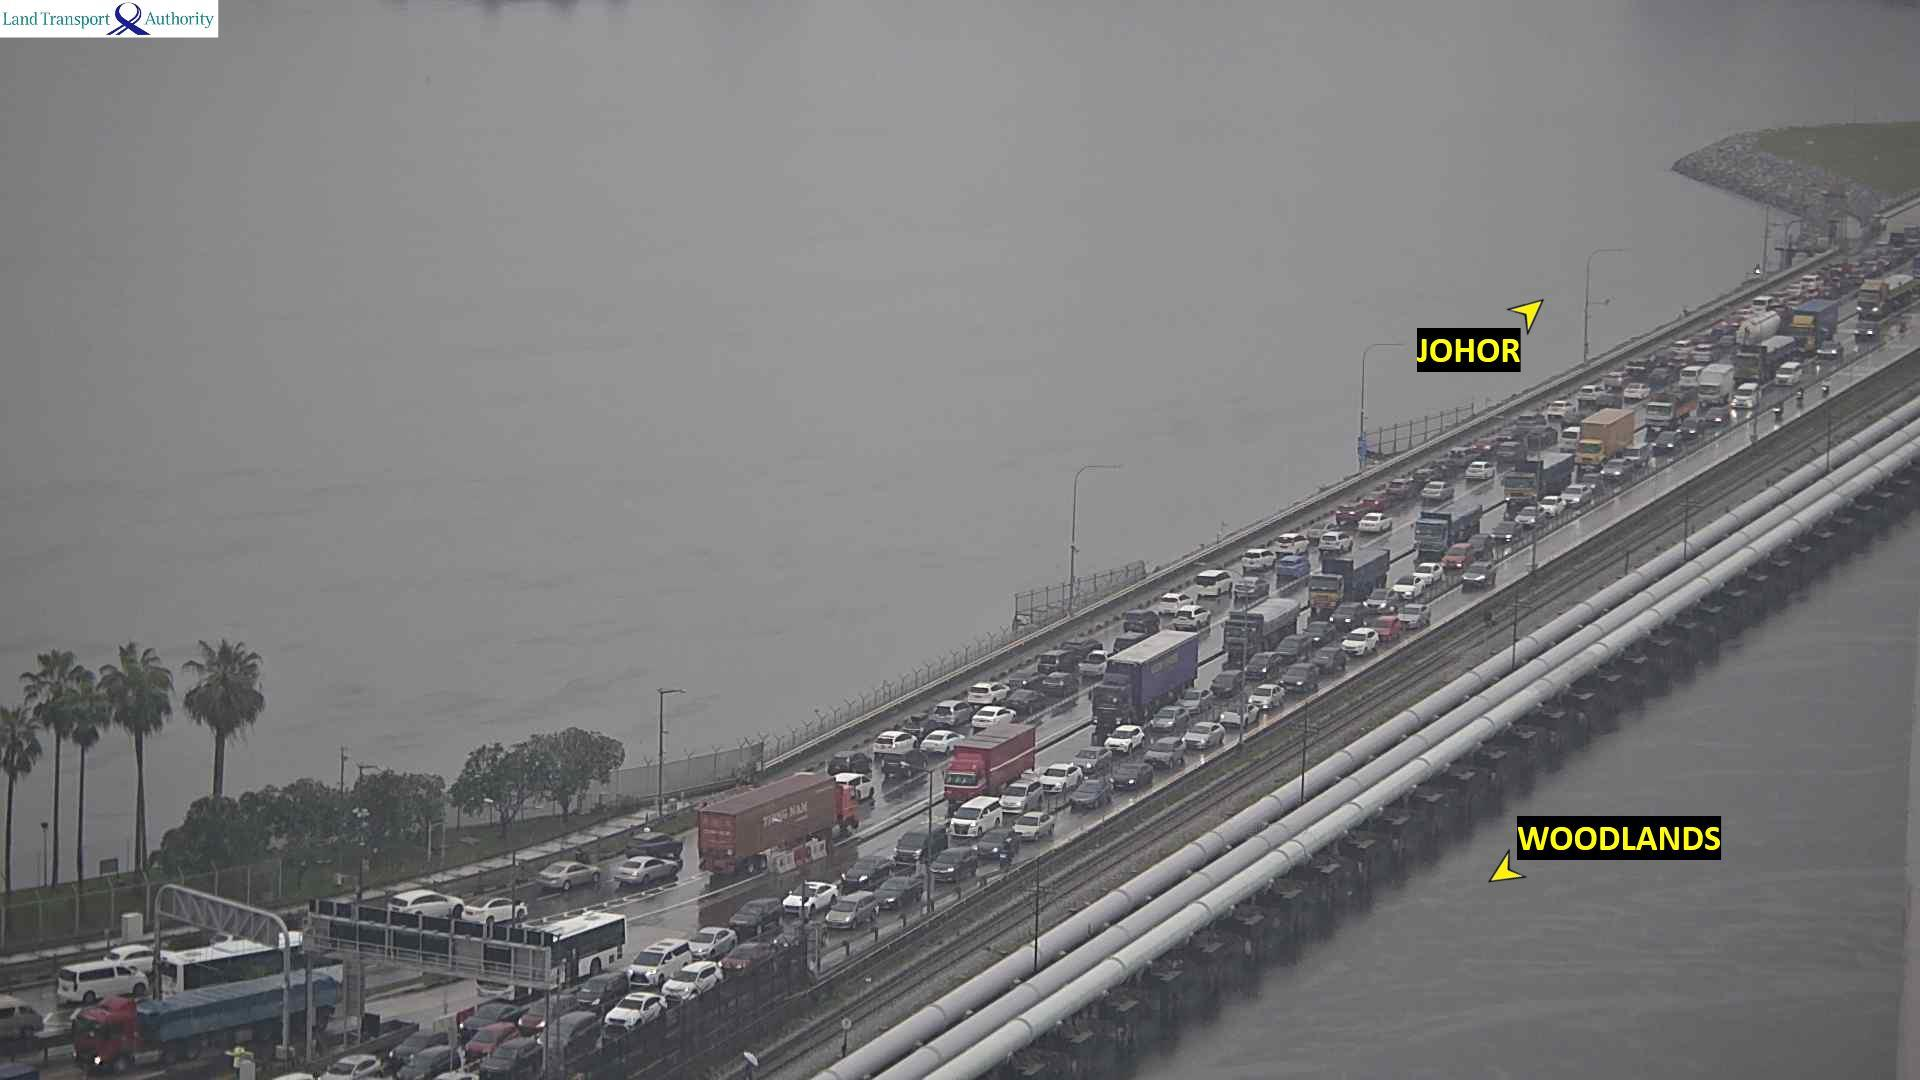vehicle-causeway-johor: (73, 971, 335, 1073), (703, 775, 858, 870), (59, 965, 148, 1004), (385, 891, 462, 924), (0, 994, 44, 1036), (615, 857, 678, 885), (462, 897, 527, 923), (538, 864, 603, 890), (625, 831, 683, 858), (930, 700, 984, 728), (105, 944, 161, 971), (885, 750, 928, 774), (964, 682, 1009, 704), (1172, 605, 1212, 630), (1126, 608, 1166, 632), (973, 705, 1017, 727), (876, 732, 918, 753), (922, 731, 964, 752), (828, 752, 872, 771), (1191, 570, 1230, 591), (1241, 549, 1275, 571), (1276, 556, 1311, 579), (1079, 650, 1108, 676), (1042, 671, 1077, 692), (1234, 576, 1270, 597), (1010, 690, 1047, 709), (1159, 592, 1193, 612), (1527, 427, 1557, 448), (1274, 534, 1308, 553), (1358, 513, 1393, 531), (1319, 534, 1352, 553), (1420, 481, 1455, 498), (1307, 524, 1340, 539), (1466, 462, 1494, 480), (1578, 385, 1605, 404), (1548, 401, 1576, 418), (1692, 344, 1718, 361), (1361, 495, 1391, 509), (1561, 427, 1580, 451), (1498, 443, 1523, 460), (1602, 371, 1627, 388), (1389, 480, 1411, 497), (1336, 505, 1365, 518), (1625, 382, 1648, 398), (1414, 468, 1439, 483), (1474, 439, 1495, 456), (1449, 448, 1470, 464), (1751, 297, 1772, 311), (1801, 276, 1822, 290), (1519, 413, 1544, 425)
vehicle-causeway-singapore: (479, 913, 626, 984), (1105, 633, 1205, 721), (943, 729, 1035, 794), (1418, 505, 1494, 563), (1503, 454, 1573, 514), (1577, 409, 1636, 471), (1230, 596, 1308, 642), (1327, 553, 1396, 603), (1783, 297, 1847, 344), (629, 939, 690, 986), (1735, 336, 1799, 381), (480, 1038, 543, 1080), (537, 1011, 599, 1054), (605, 993, 671, 1030), (1857, 274, 1912, 318), (518, 993, 578, 1031), (394, 1047, 460, 1080), (951, 804, 1006, 840), (666, 968, 723, 1002), (820, 897, 881, 928), (895, 824, 945, 862), (459, 1002, 521, 1033), (389, 1029, 446, 1062), (731, 899, 782, 935), (840, 856, 895, 889), (1677, 371, 1730, 405), (868, 878, 927, 909), (465, 1023, 520, 1056), (783, 881, 837, 914), (1648, 394, 1695, 433), (926, 852, 980, 882), (318, 1055, 382, 1080), (691, 927, 738, 956), (977, 832, 1022, 860), (1001, 781, 1043, 810), (1282, 663, 1320, 695), (1013, 812, 1054, 840), (1040, 764, 1083, 790), (1072, 746, 1112, 773), (1342, 628, 1378, 657), (1242, 653, 1279, 680), (1065, 783, 1108, 807), (1249, 683, 1284, 711), (1460, 563, 1495, 591), (1105, 727, 1142, 752), (1146, 741, 1183, 766), (1311, 646, 1345, 673), (1150, 705, 1189, 728), (1184, 723, 1221, 746), (1221, 703, 1257, 727), (1110, 766, 1150, 787), (1331, 603, 1369, 624), (1444, 543, 1473, 571), (1855, 319, 1887, 344), (1399, 605, 1432, 629), (1731, 384, 1760, 409), (1652, 433, 1683, 456), (1393, 576, 1424, 599), (1304, 622, 1336, 644), (1373, 617, 1399, 642), (1561, 484, 1592, 505), (1278, 637, 1308, 658), (1212, 671, 1240, 694), (1414, 562, 1443, 583), (1677, 417, 1705, 438), (1816, 342, 1844, 363), (1540, 496, 1567, 517), (1179, 692, 1208, 711), (1493, 524, 1519, 543), (1706, 407, 1729, 430), (1469, 534, 1491, 556), (1778, 361, 1800, 384)
